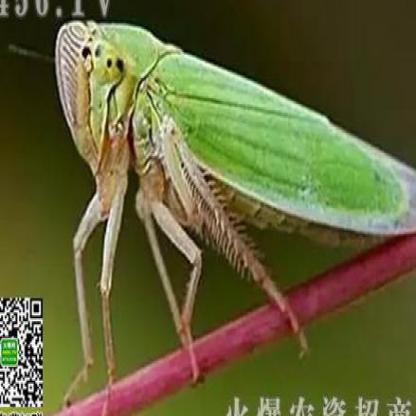Green-Leafhopper: (51, 13, 416, 389)
